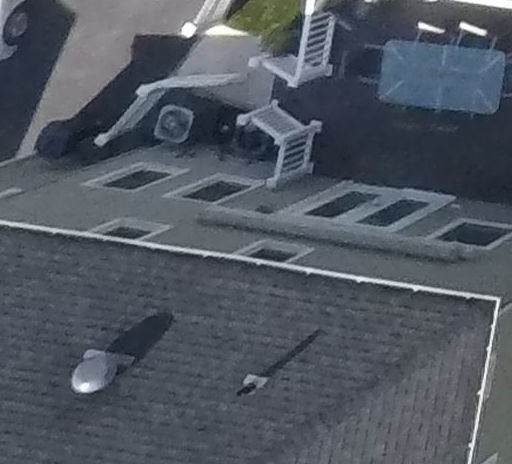table: (362, 29, 508, 132)
